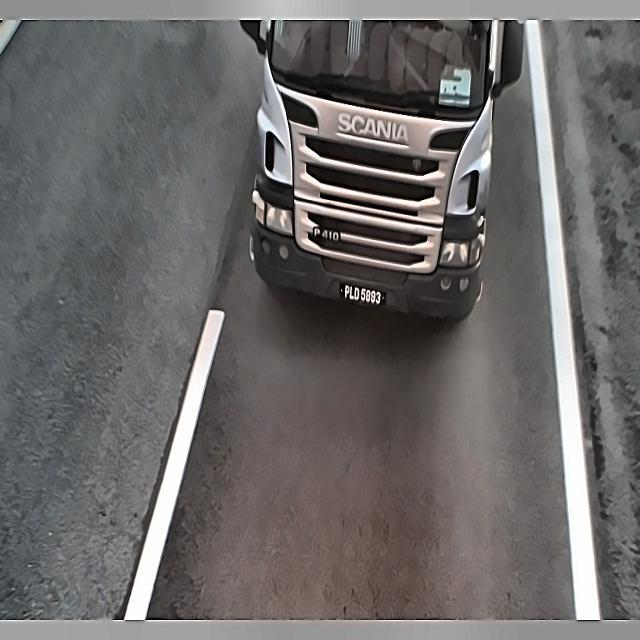car: (337, 275, 389, 310)
